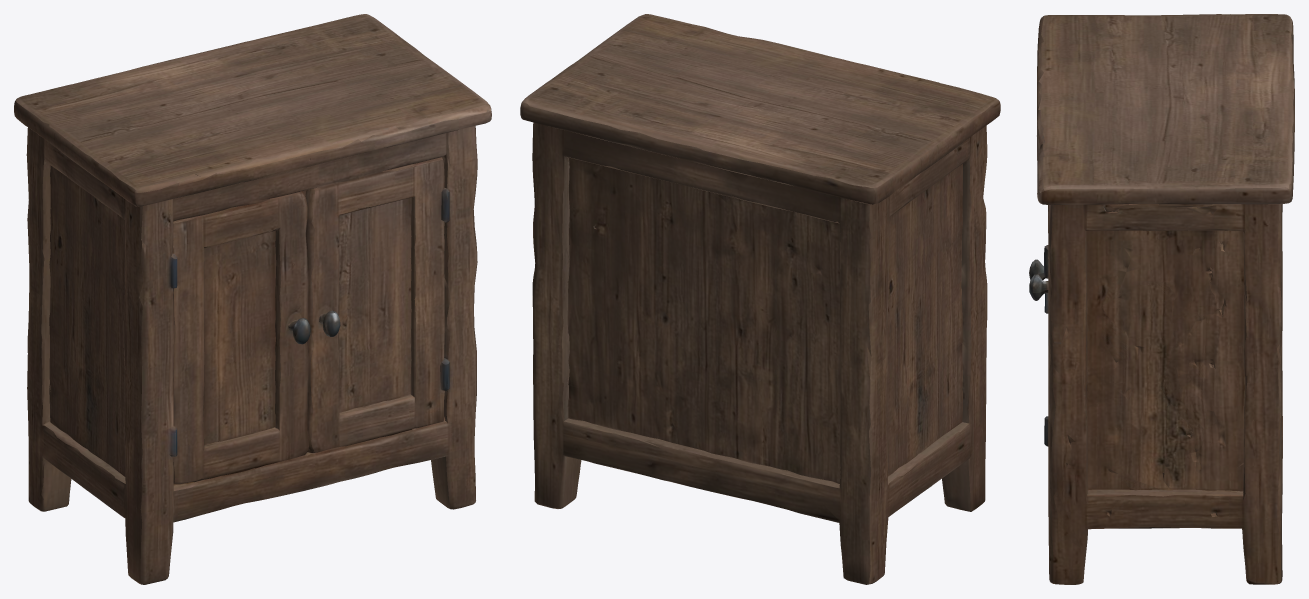
File: model_glb.glb
The picture shows the model from 3 angles, left to right: view 1: azimuth 30°, elevation 25°; view 2: azimuth 150°, elevation 25°; view 3: azimuth 270°, elevation 25°; orthographic projection.
Visible parts, largest first — view 1: geometry_0; view 2: geometry_0; view 3: geometry_0.
Boxes of the visible parts, <box> form: geometry_0: <box>14,14,491,584</box>; geometry_0: <box>520,14,1000,584</box>; geometry_0: <box>1029,14,1294,584</box>.
Size of the model in its own units: 0.8 by 0.8607 by 0.5126.
1 material, 1 textured.
